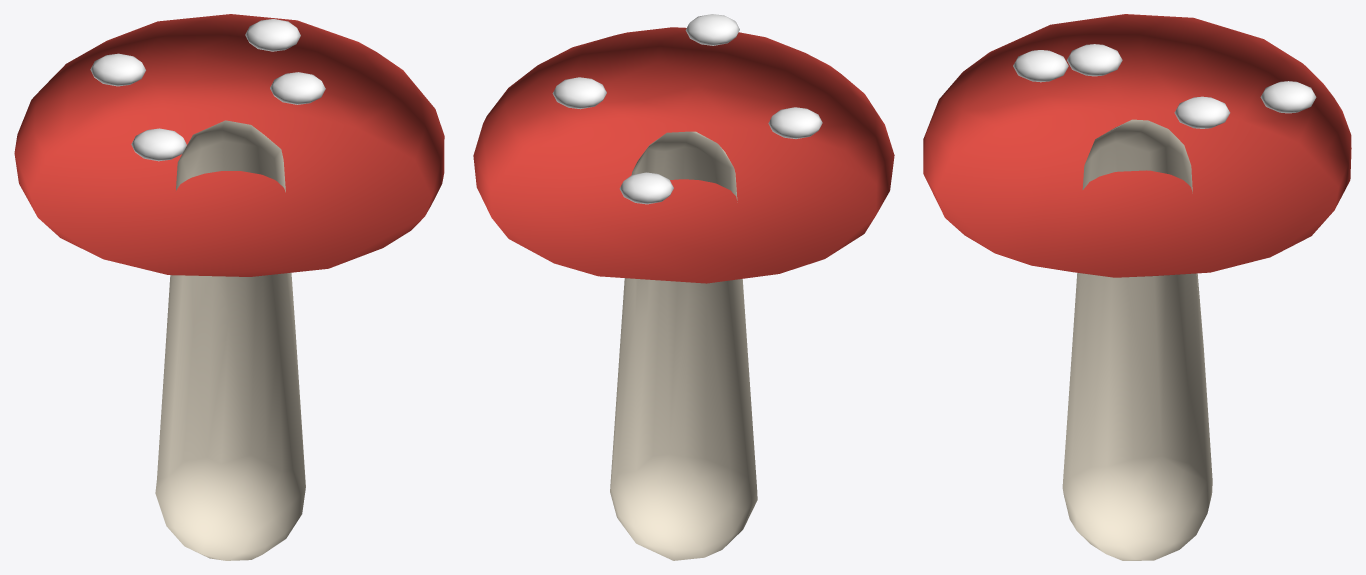
File: lm_mushroom.glb
The picture shows the model from 3 angles, left to right: view 1: azimuth 30°, elevation 25°; view 2: azimuth 150°, elevation 25°; view 3: azimuth 270°, elevation 25°; orthographic projection. The views are drawn at different scales.
Parts seen in each view (by area): view 1: body; view 2: body; view 3: body.
Part boxes in pixels (box(x1,y1,x2,y2)): body: box(14, 14, 444, 560); body: box(473, 14, 894, 560); body: box(923, 14, 1351, 560).
Size of the model in its own units: 2 by 2.61 by 1.99.
1 material, 1 textured.
